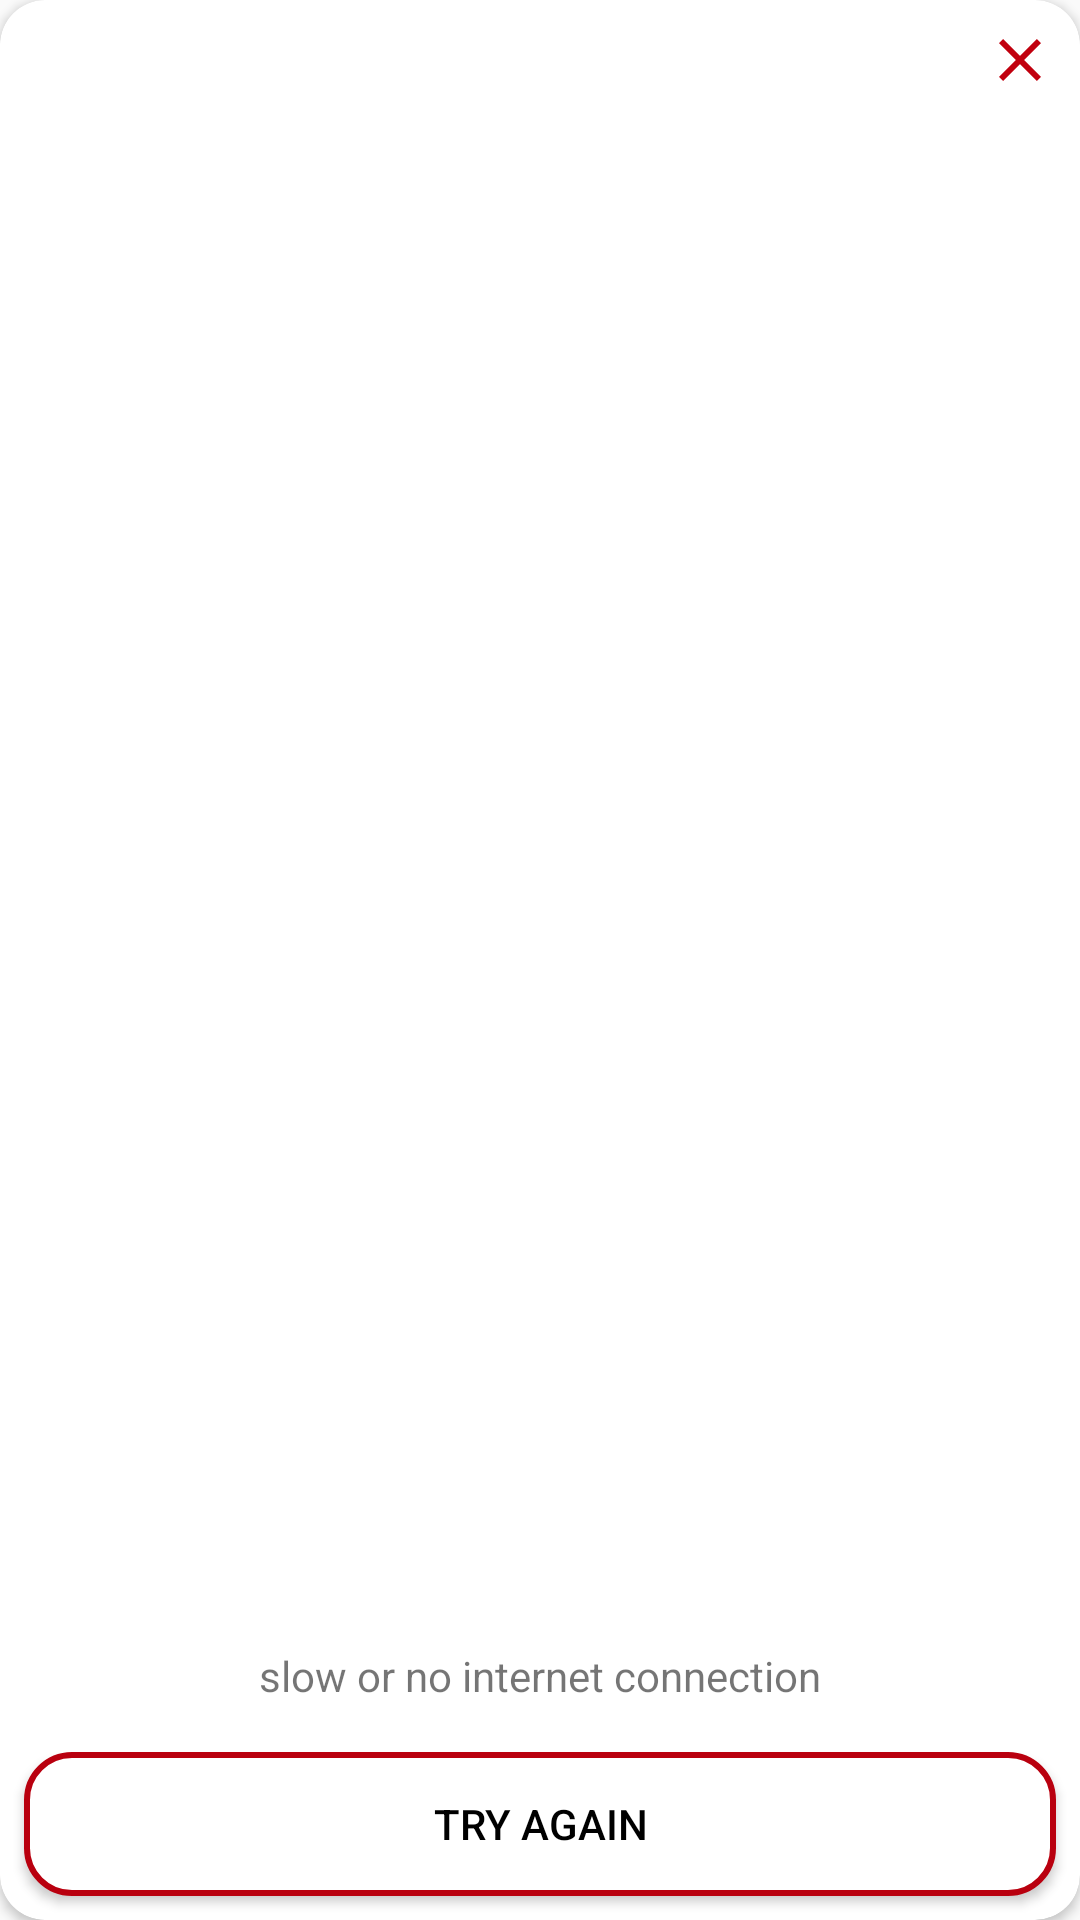

Point at icon controls on the screen. Image size 1080 × 1920, points as [x,y].
close: [1020,60]
